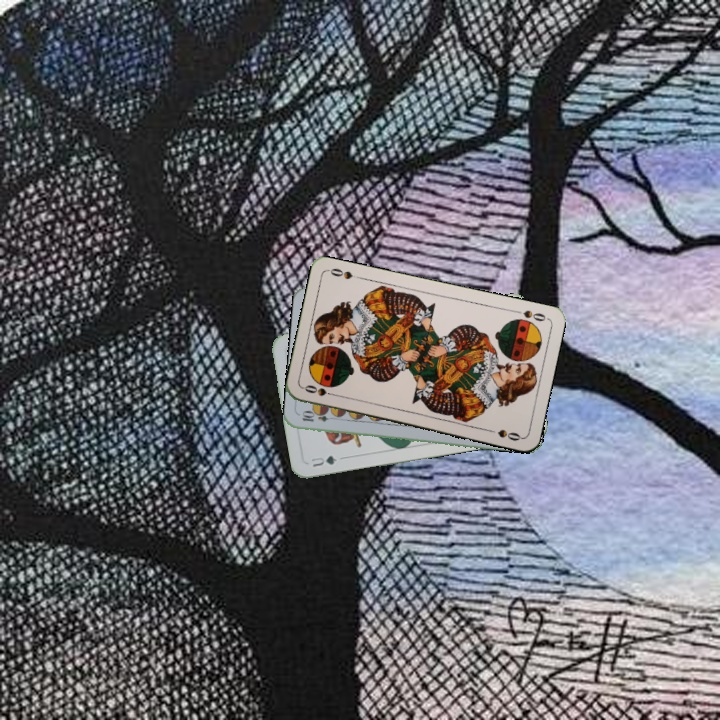E10: (298, 409, 339, 424)
GU: (307, 451, 340, 470)
SO: (300, 381, 340, 399), (519, 306, 550, 324)
